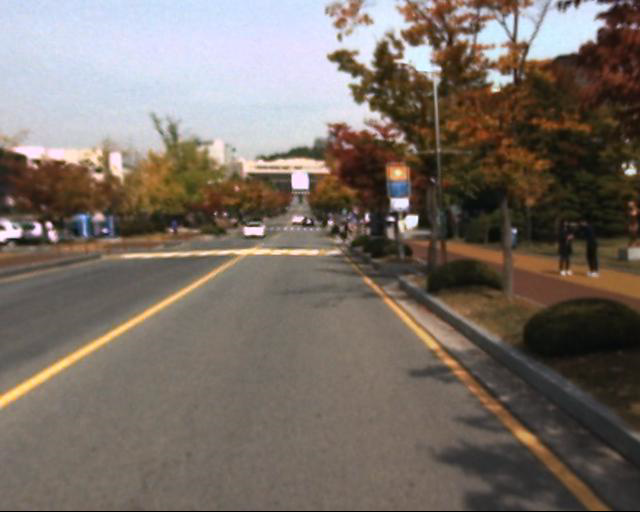person: (572, 212, 598, 273), (551, 215, 573, 273)
